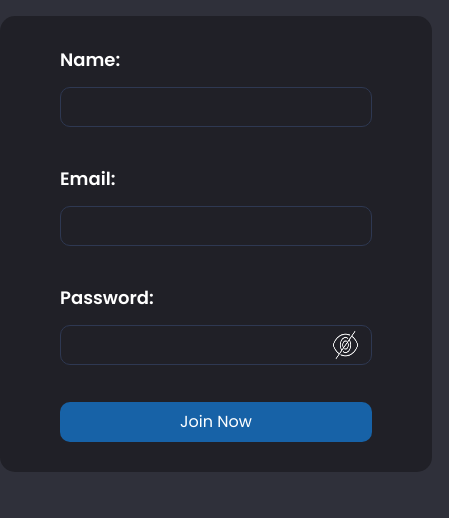
Test: Alerta de error › Spans de información incorrecta › Si la contraseña es menor a 8 caracteres
This screenshot has width=449, height=518.
Type "12345" into the password field labelled "Password:" at (216,345), box [60, 325, 372, 365]
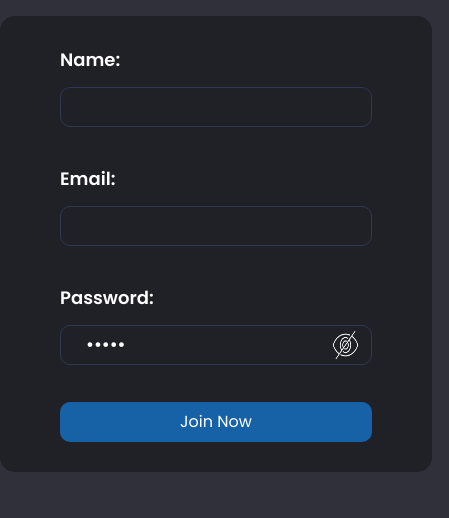
Leave the password field labelled "Password:", box [60, 325, 372, 365]
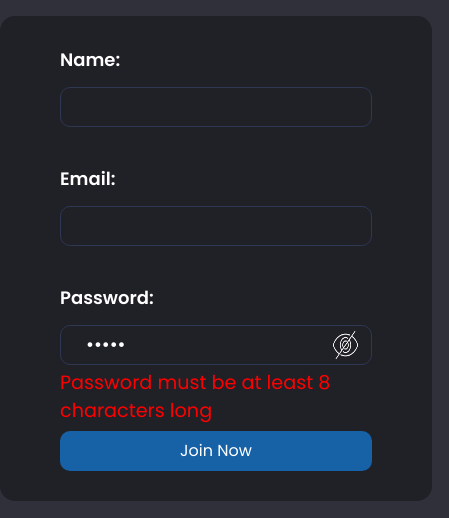
Expected: the text "Password must be at least 8 characters long" is shown, [60, 369, 372, 426]
